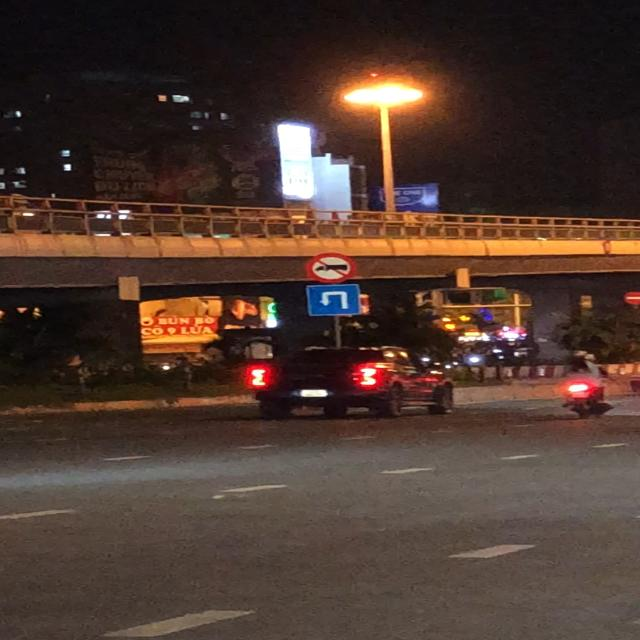Bien bao cam xe so-mi ro-mooc: (302, 251, 357, 286)
